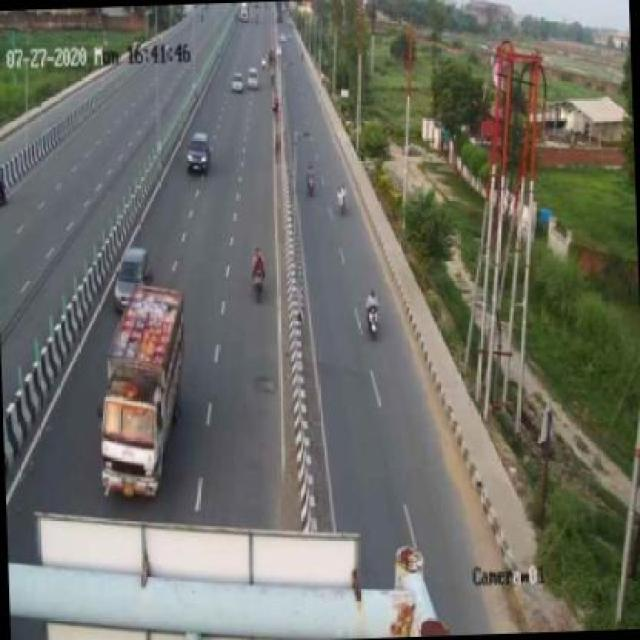car: (114, 245, 152, 308), (185, 128, 212, 175)
